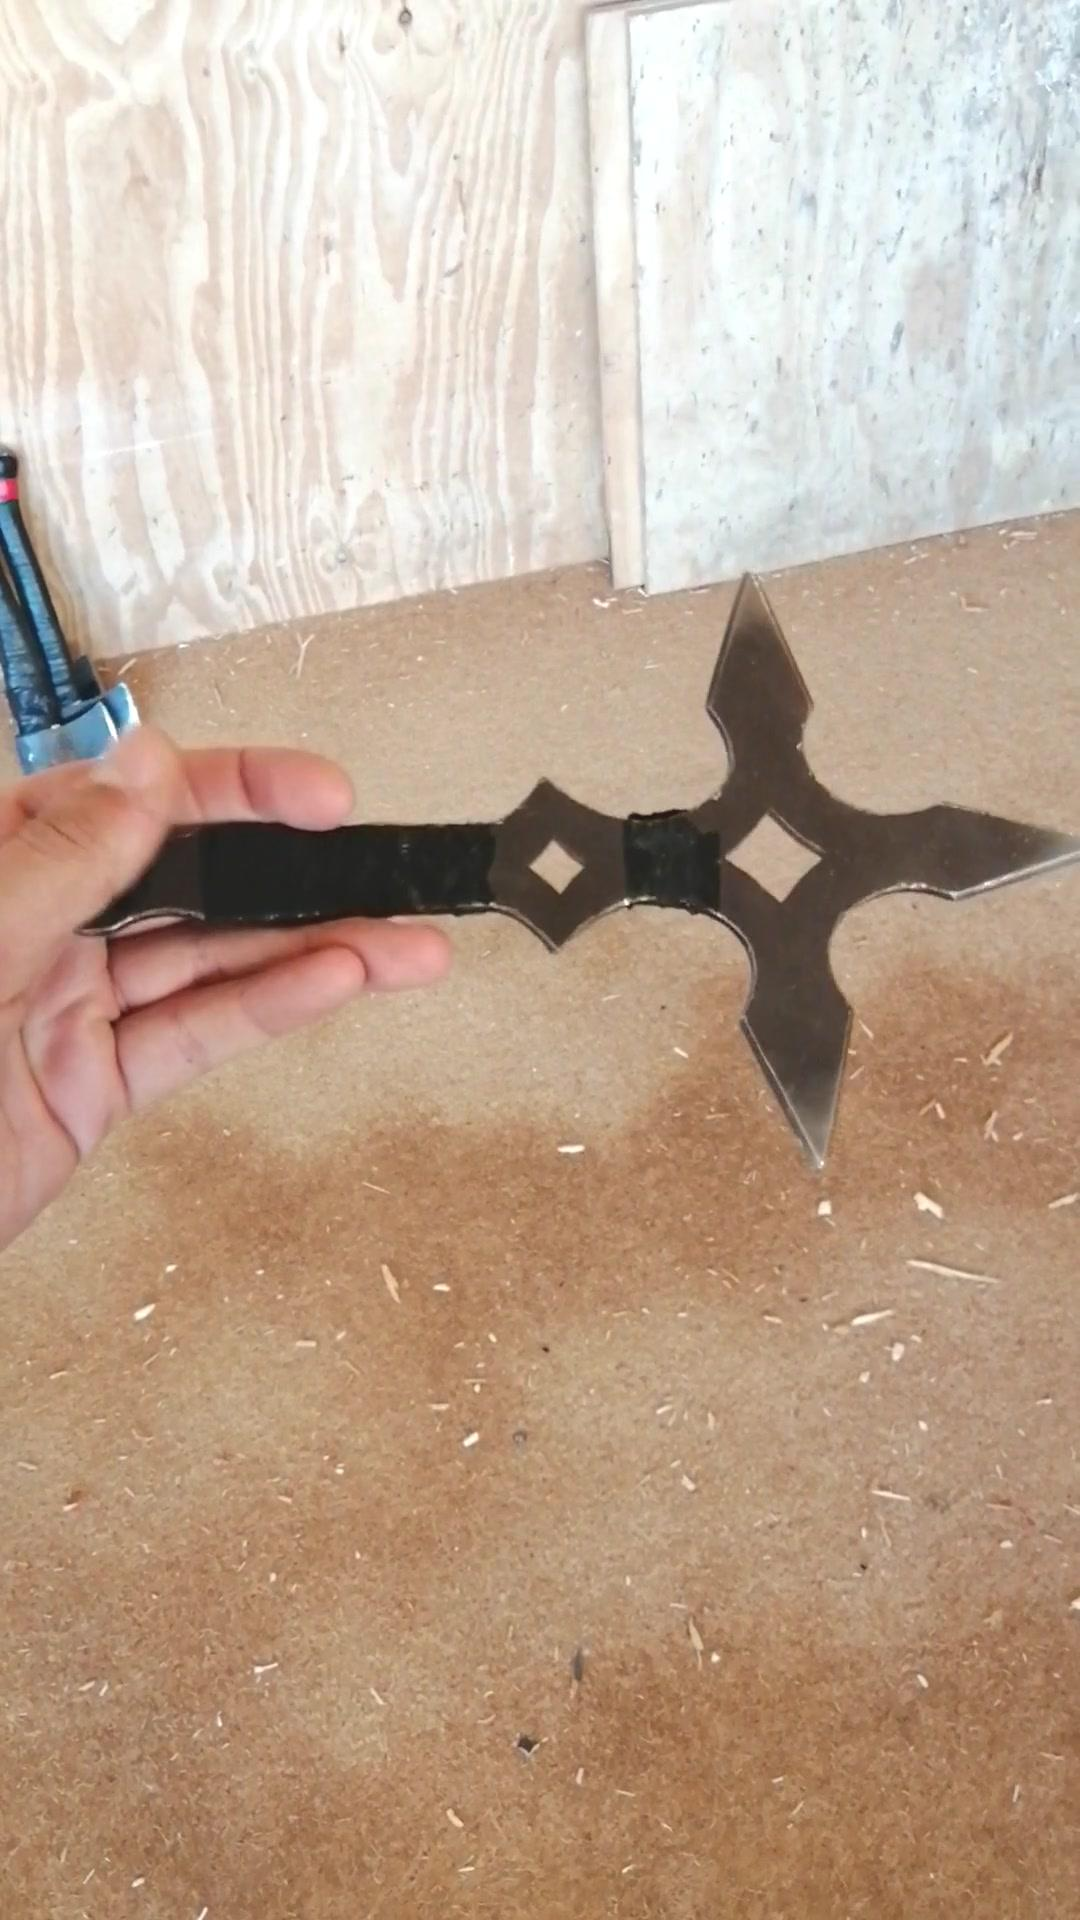Hand Axe: (53, 570, 1079, 1185)
